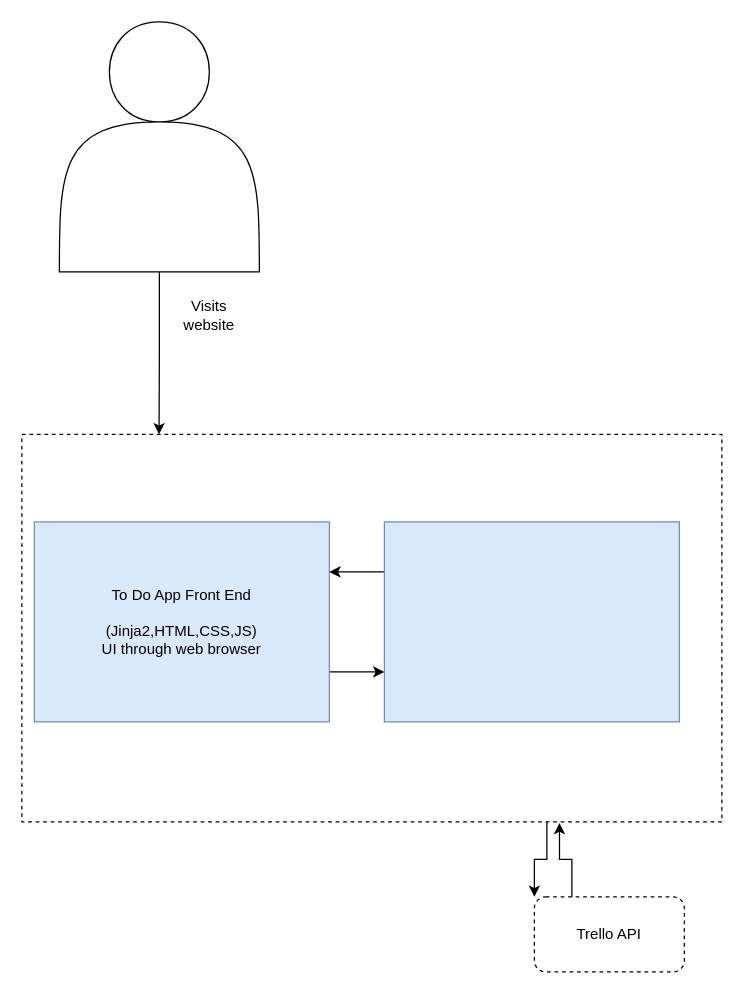
Some shapes in this 744 by 994 pixel diagram are drawn without their labels. Each missing label, with the centre of its shape:
To Do App Back End (Python, Flask) Makes calls to API and provides To Do items: (531,621)
User: (158,146)
